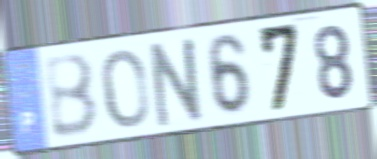6: (206, 31, 253, 119)
7: (255, 21, 302, 117)
8: (312, 22, 356, 101)
B: (41, 50, 101, 142)
N: (148, 33, 207, 131)
O: (99, 47, 151, 132)
